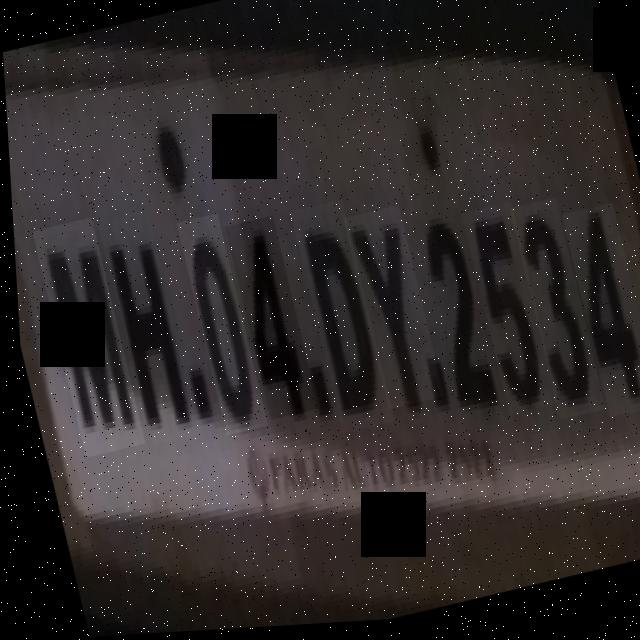0: (173, 214, 263, 439)
3: (506, 202, 601, 428)
4: (221, 216, 313, 424), (559, 208, 640, 426)
5: (458, 205, 554, 422)
D: (286, 201, 389, 439)
H: (95, 211, 196, 448)
M: (29, 216, 140, 460)
Y: (340, 208, 439, 415)
